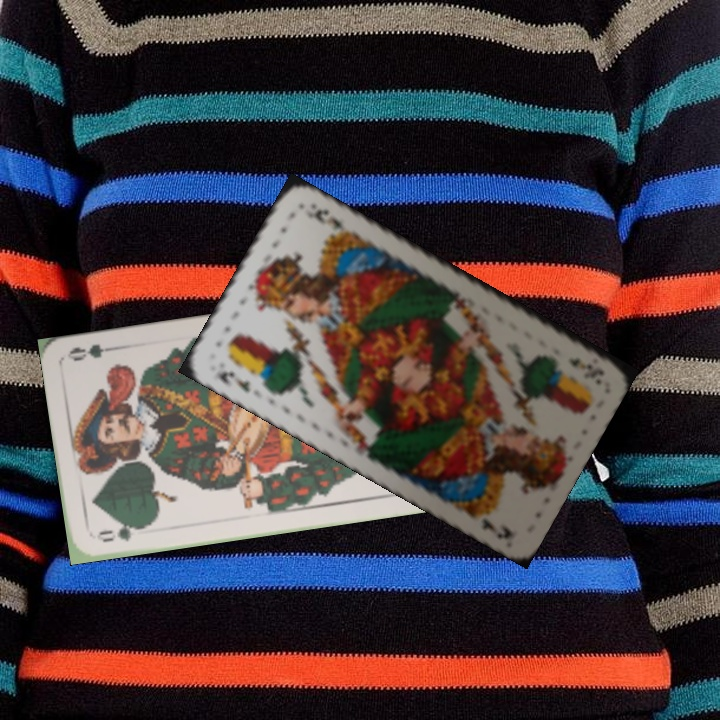EK: (213, 367, 253, 396), (565, 353, 607, 379)
GO: (92, 520, 150, 545)
